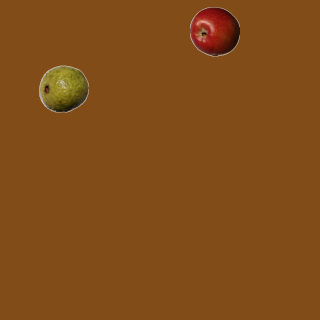Apple Braeburn: (189, 6, 239, 56)
Guava: (38, 63, 88, 113)
